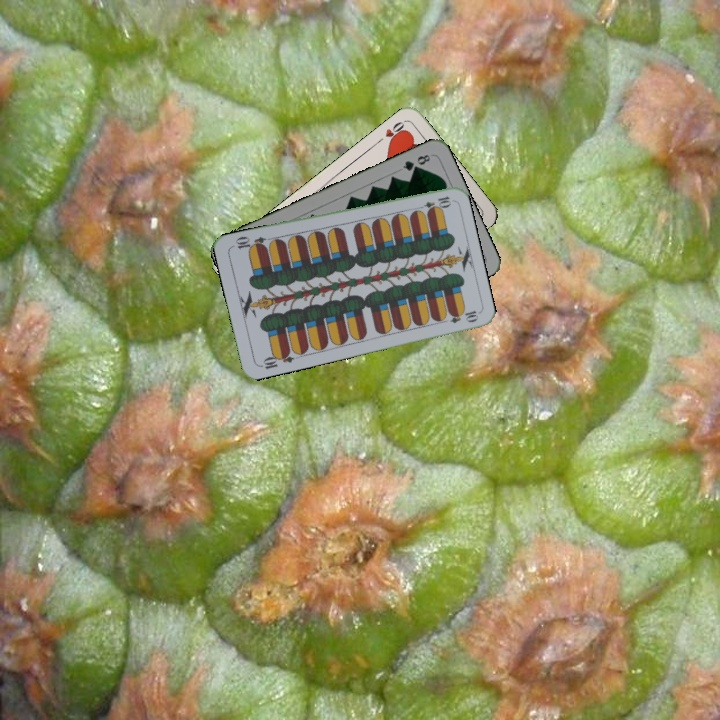E10: (256, 347, 296, 372), (413, 192, 453, 213)
G8: (398, 150, 433, 174)
HO: (373, 117, 409, 146)
